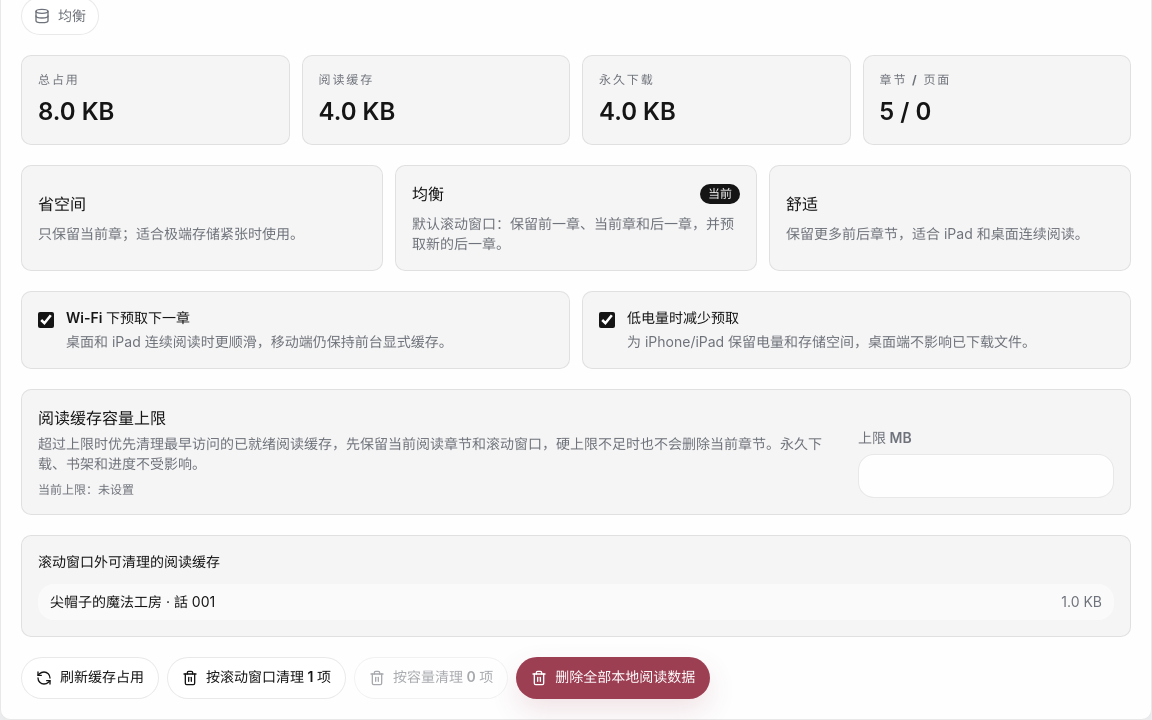
Test: Settings native config sync › clears only policy cleanup candidate cache ids when native cleanup is available
(page scrolled)
Click the button "按滚动窗口清理 1 项" at (256, 678), box [167,657,346,699]
(page scrolled)
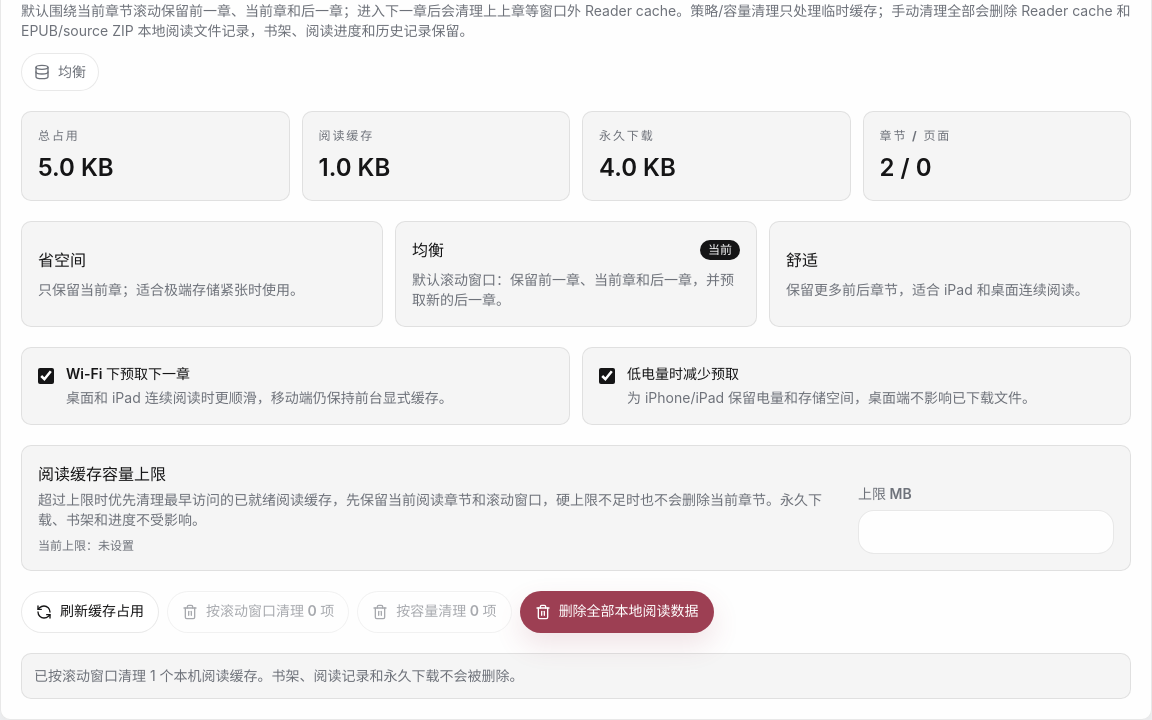
Now the text "已按滚动窗口清理 1 个本机阅读缓存。书架、阅读记录和永久下载不会被删除。" is shown, box [21,653,1131,699]
